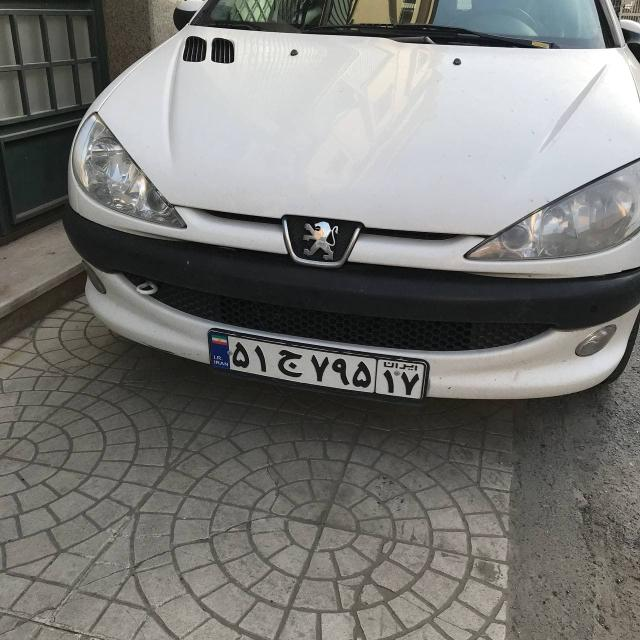Plates: (203, 330, 427, 399)
